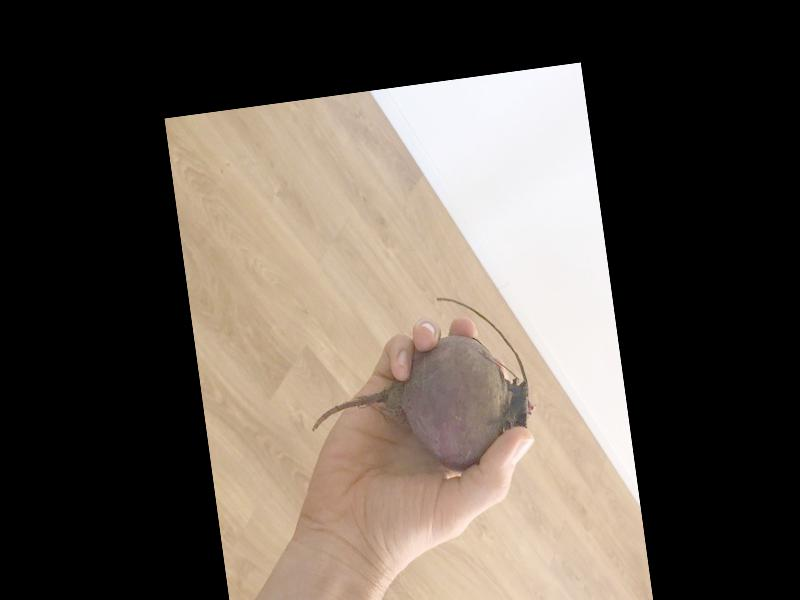Beet: (298, 284, 542, 488)
